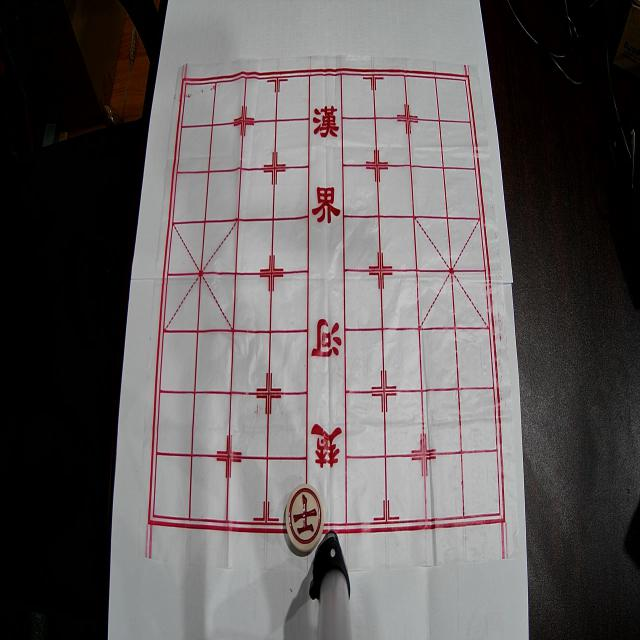red-guard: (286, 483, 324, 552)
